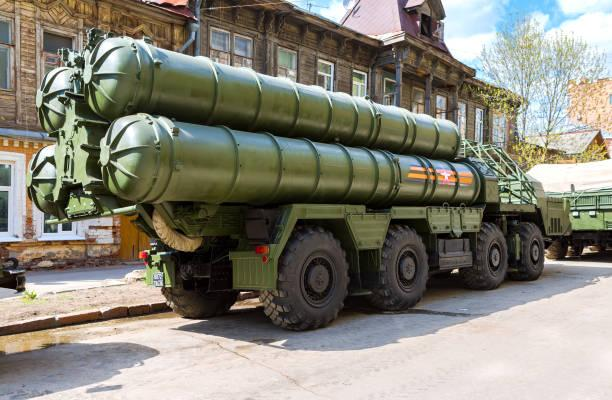MIL_SAM_TEL: (26, 29, 546, 339)
